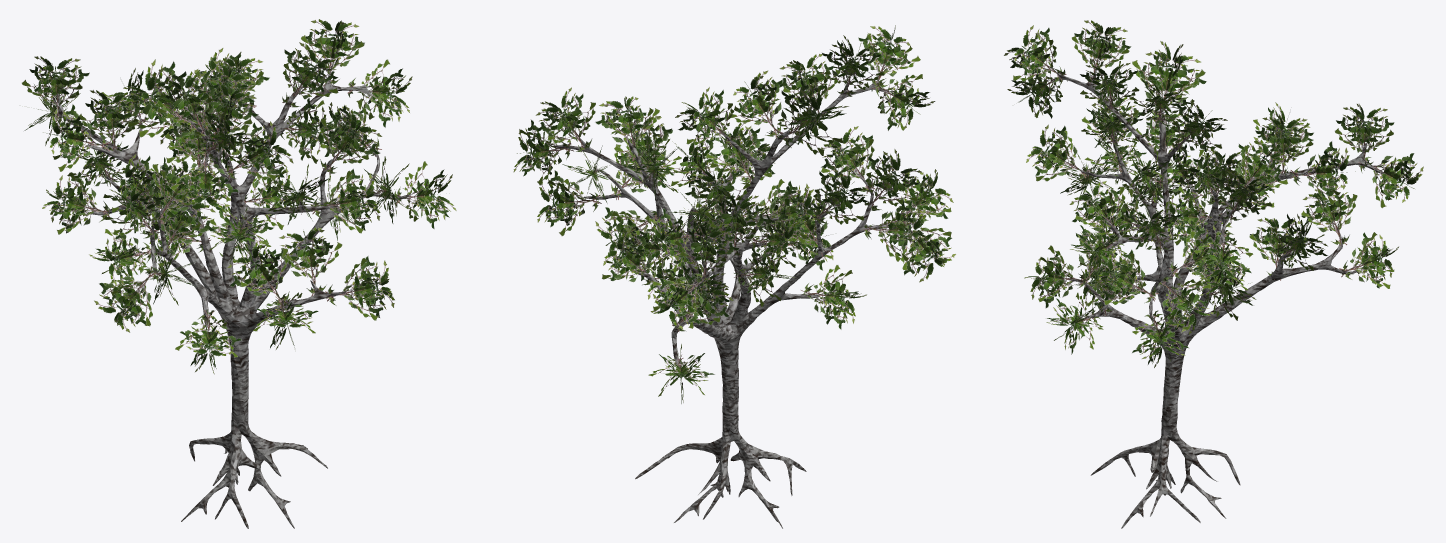
File: birchTree.fbx
3 renders of one model, left to right at view 1: azimuth 30°, elevation 25°; view 2: azimuth 150°, elevation 25°; view 3: azimuth 270°, elevation 25°, orthographic. The views are drawn at different scales.
Visible parts, largest first — view 1: tree, Leaves.002, Leaves.022, Leaves.011, Leaves.031, Leaves.018, Leaves.010, Leaves.024, Leaves.021, Leaves.001, Leaves.043, Leaves.040 (+31 smaller); view 2: tree, Leaves.002, Leaves.025, Leaves.008, Leaves.029, Leaves.007, Leaves.040, Leaves.005, Leaves.006, Leaves.017, Leaves.039, Leaves.024 (+33 smaller); view 3: tree, Leaves.002, Leaves.030, Leaves.016, Leaves.001, Leaves.040, Leaves, Leaves.039, Leaves.038, Leaves.042, Leaves.012, Leaves.009 (+35 smaller).
Part boxes in pixels (x1,y1,x2,y2): tree: [56, 71, 410, 528]; Leaves.002: [123, 59, 202, 137]; Leaves.022: [325, 255, 394, 320]; Leaves.011: [310, 168, 380, 233]; Leaves.031: [320, 106, 382, 174]; Leaves.018: [94, 266, 158, 332]; Leaves.010: [224, 121, 293, 180]; Leaves.024: [282, 42, 340, 109]; Leaves.021: [227, 240, 289, 307]; Leaves.001: [157, 68, 219, 137]; Leaves.043: [42, 171, 111, 234]; Leaves.040: [21, 56, 89, 121]; tree: [554, 79, 898, 528]; Leaves.002: [776, 78, 848, 155]; Leaves.025: [535, 87, 595, 151]; Leaves.008: [728, 70, 782, 138]; Leaves.029: [537, 170, 601, 236]; Leaves.007: [864, 149, 921, 210]; Leaves.040: [674, 220, 739, 286]; Leaves.005: [675, 87, 736, 146]; Leaves.006: [821, 126, 875, 193]; Leaves.017: [861, 200, 928, 261]; Leaves.039: [650, 272, 710, 329]; Leaves.024: [595, 96, 659, 161]; tree: [1052, 66, 1386, 528]; Leaves.002: [1132, 41, 1206, 123]; Leaves.030: [1094, 248, 1158, 305]; Leaves.016: [1026, 124, 1090, 181]; Leaves.001: [1071, 20, 1131, 84]; Leaves.040: [1334, 104, 1394, 168]; Leaves: [1004, 25, 1066, 82]; Leaves.039: [1358, 153, 1423, 208]; Leaves.038: [1289, 141, 1355, 204]; Leaves.042: [1301, 184, 1357, 246]; Leaves.012: [1069, 180, 1126, 239]; Leaves.009: [1235, 137, 1288, 197].
Size of the model in its own units: 1447 by 1704 by 1458.
